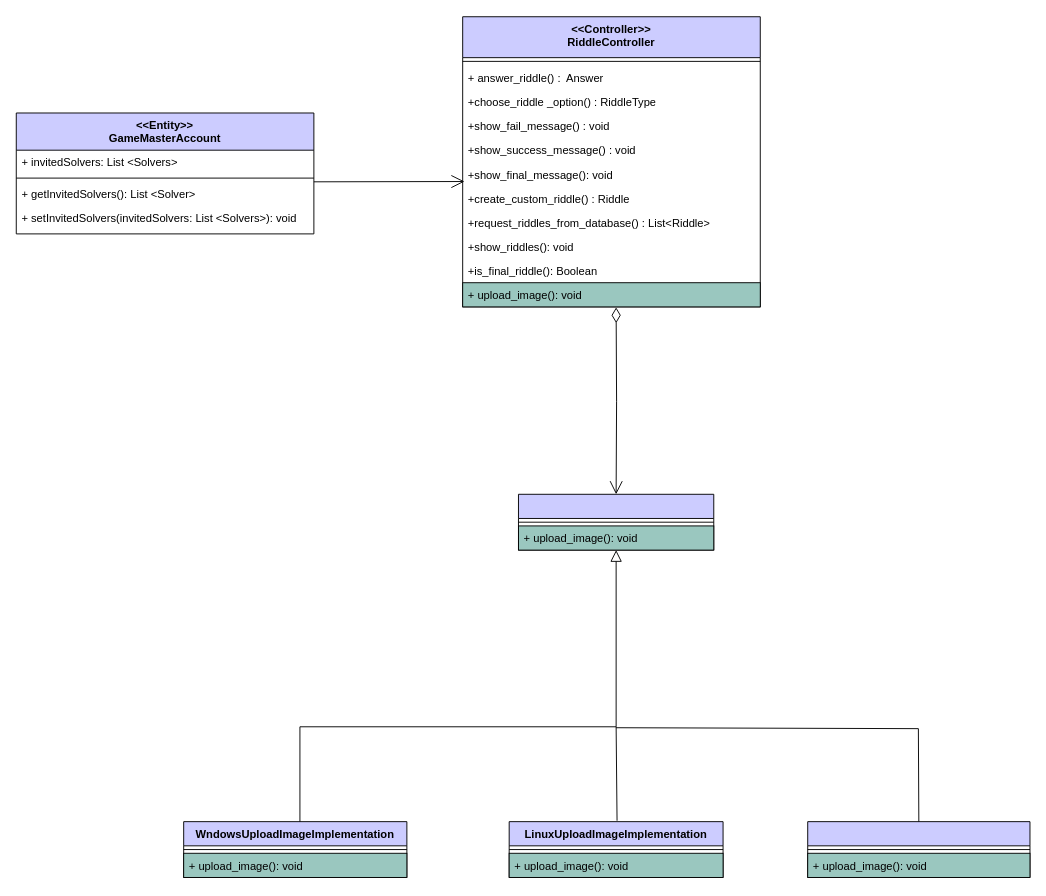
This 1046x896 diagram has some shape labels left out. The box of each missing label's shape, as (x1, y1, x2, y2) in pixels:
MacOSUploadImageImplementation: (807, 821, 1030, 877)
UploadImageImplementation: (518, 493, 714, 550)
